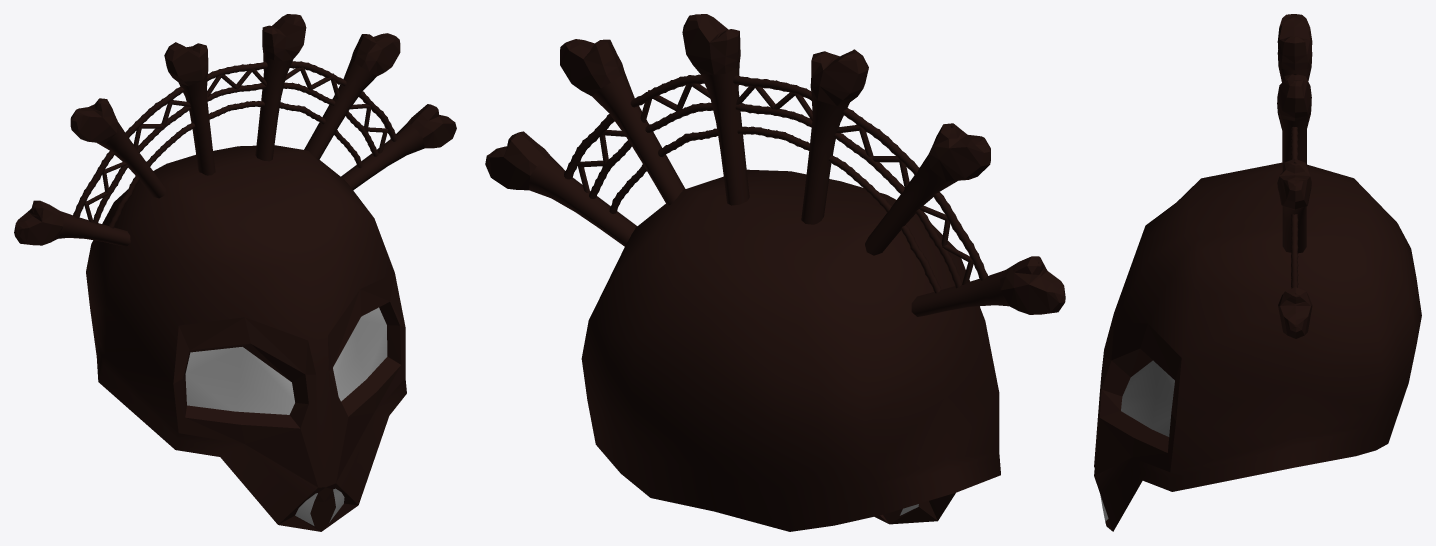
File: mage_mask_lvl2.FBX
3 views of the same model, side by side, from view 1: azimuth 30°, elevation 25°; view 2: azimuth 150°, elevation 25°; view 3: azimuth 270°, elevation 25° (orthographic). The views are drawn at different scales.
Parts seen in each view (by area): view 1: Object002; view 2: Object002; view 3: Object002.
Boxes of the visible parts, bbox=[...] form: Object002: bbox=[14, 14, 456, 531]; Object002: bbox=[485, 14, 1065, 531]; Object002: bbox=[1094, 14, 1421, 531].
Size of the model in its own units: 52.17 by 49.46 by 30.79.
